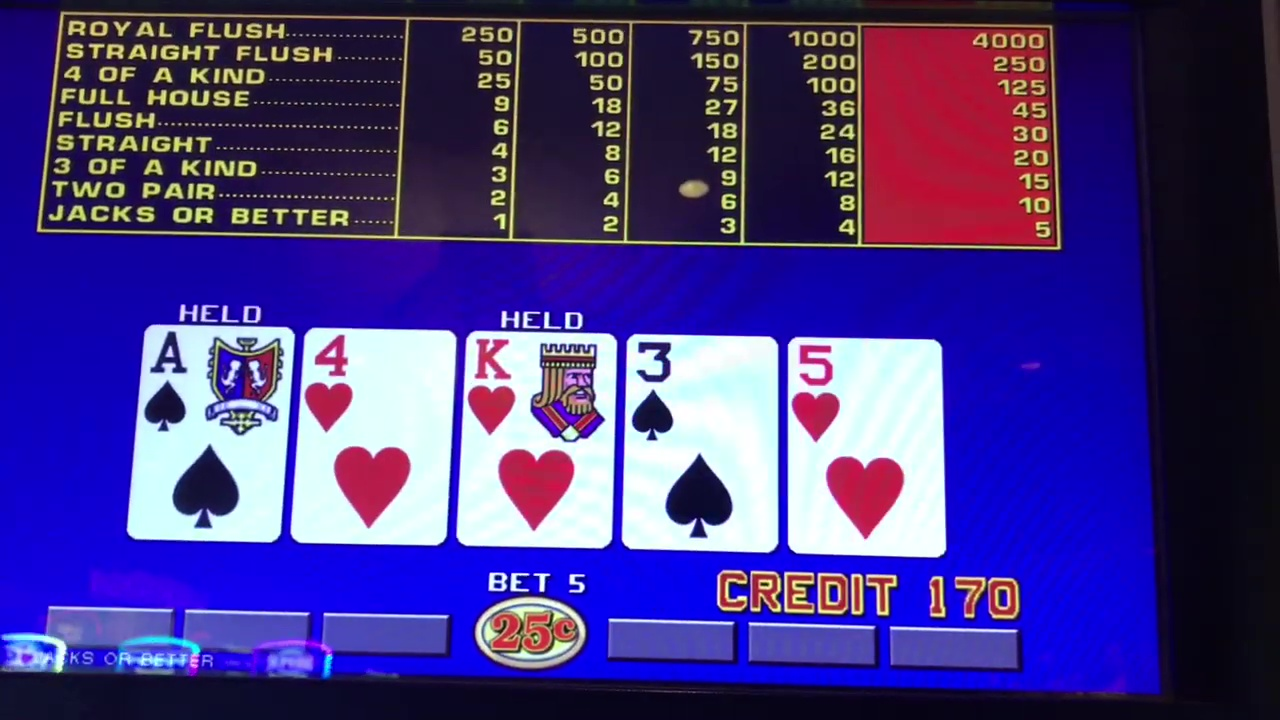H4: (308, 329, 443, 435)
H5: (790, 336, 935, 446)
HK: (469, 336, 607, 439)
S3: (629, 336, 767, 442)
SA: (142, 329, 283, 430)
